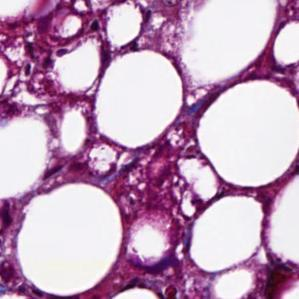inflammation: (16, 32, 55, 77)
